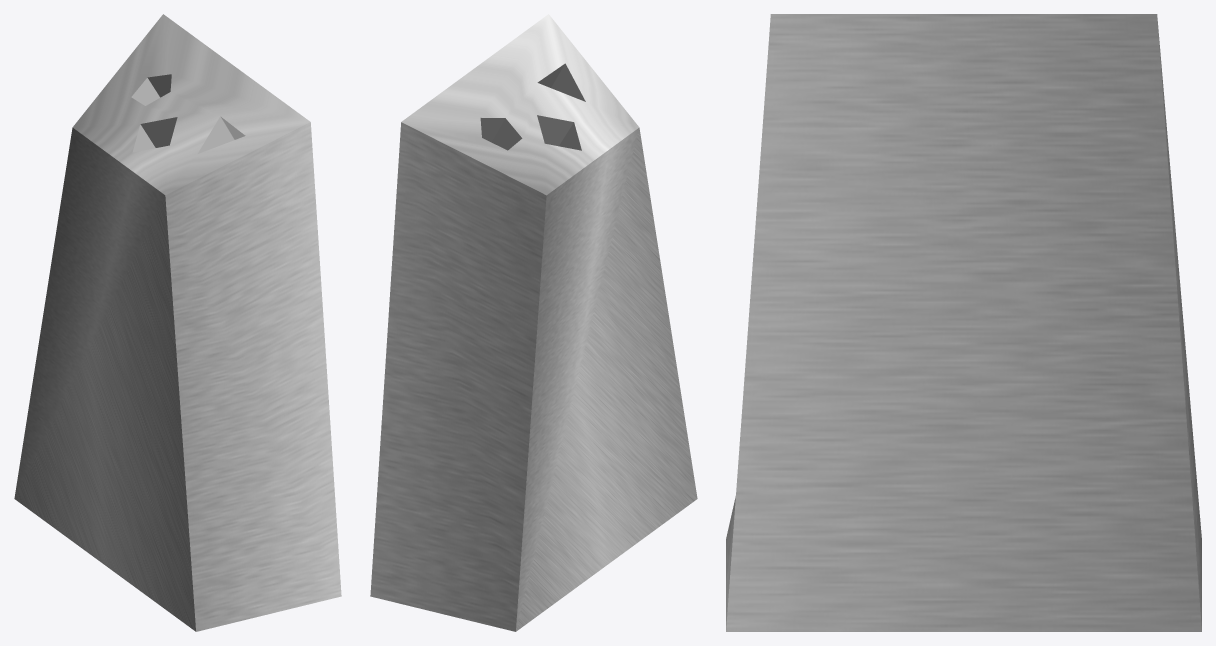
Rendered from console.obj.
3 renders of one model, left to right at view 1: azimuth 30°, elevation 25°; view 2: azimuth 150°, elevation 25°; view 3: azimuth 270°, elevation 25°, orthographic. The views are drawn at different scales.
Parts seen in each view (by area): view 1: Cube; view 2: Cube; view 3: Cube.
Part boxes in pixels (box(x1,y1,x2,y2)): Cube: box(14, 14, 341, 631); Cube: box(370, 14, 697, 631); Cube: box(726, 14, 1201, 631).
Size of the model in its own units: 2.49 by 7.6 by 5.38.
